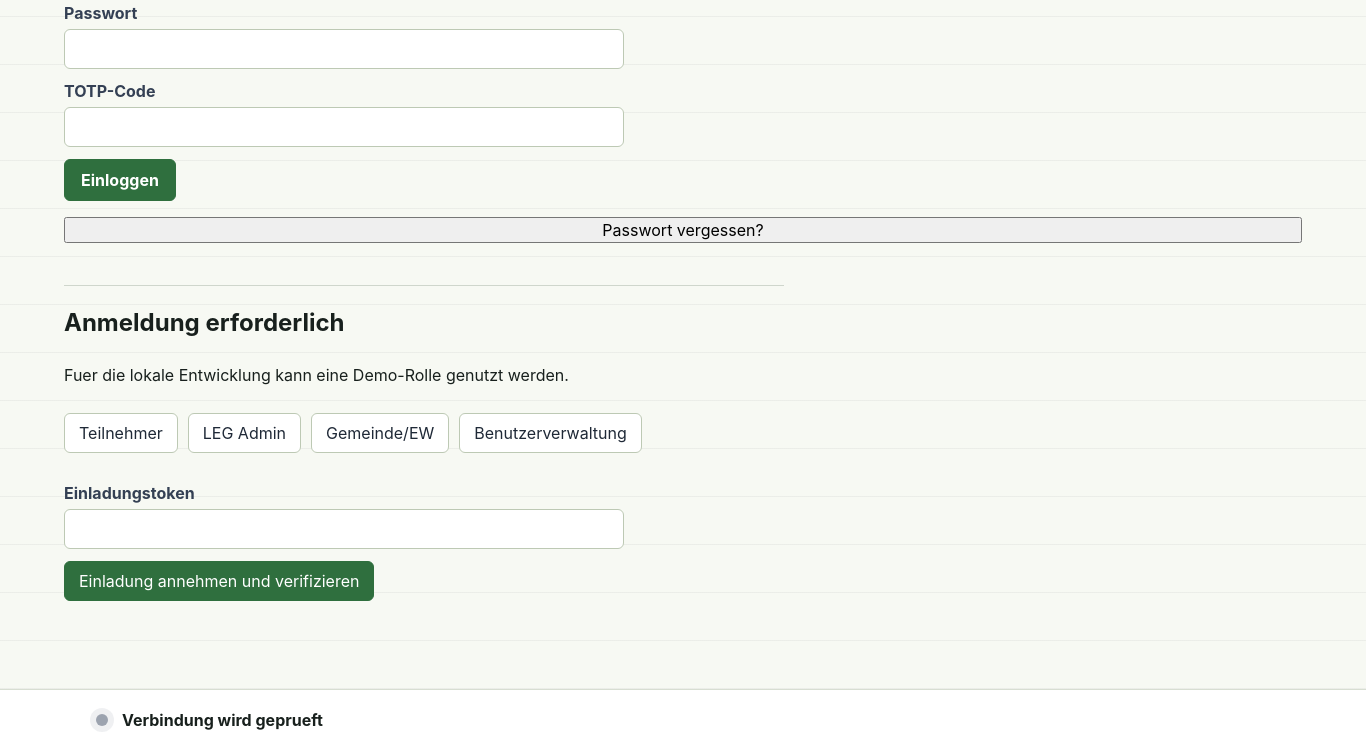
Test: Portal shell › aktualisiert als Platform Admin Anzeigename und Rolle eines Benutzerkontos
The image size is (1366, 742).
(page scrolled)
Click the button "Benutzerverwaltung" at (551, 433), box 459,413 -> 642,453
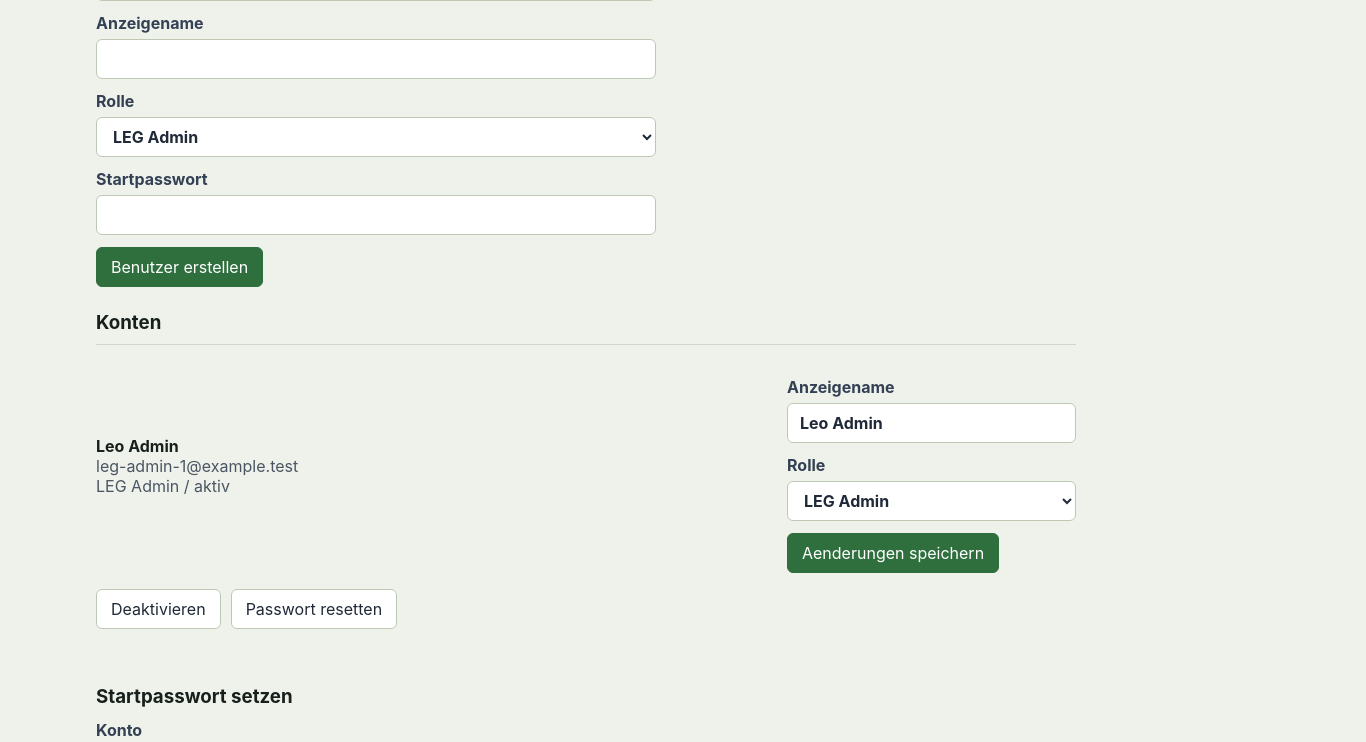
Replace the text in the field labelled "Anzeigename" in the row of "Leo Admin" with "Lea Admin" at (932, 423), box 787,403 -> 1076,443
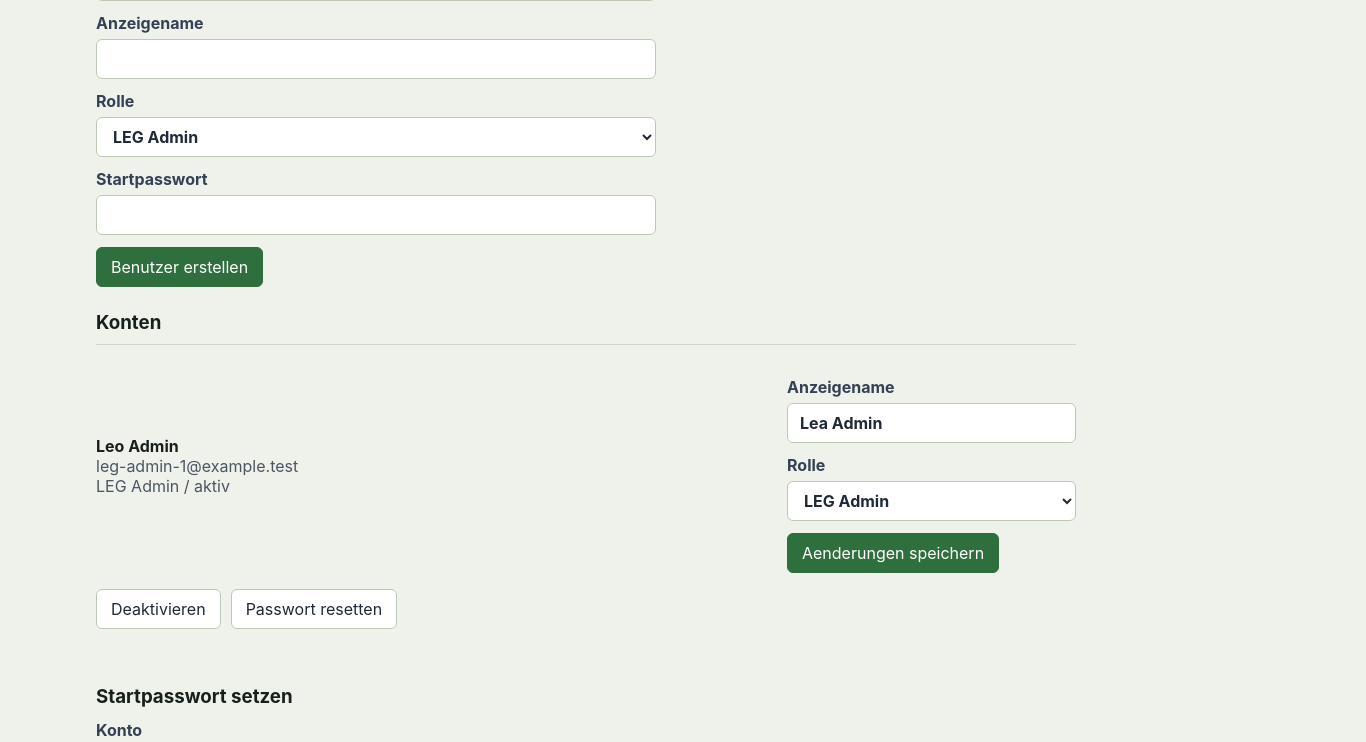
Select "Plattform Admin" in the dropdown labelled "Rolle" in the row of "LEG Admin" at (932, 501), box 787,481 -> 1076,521
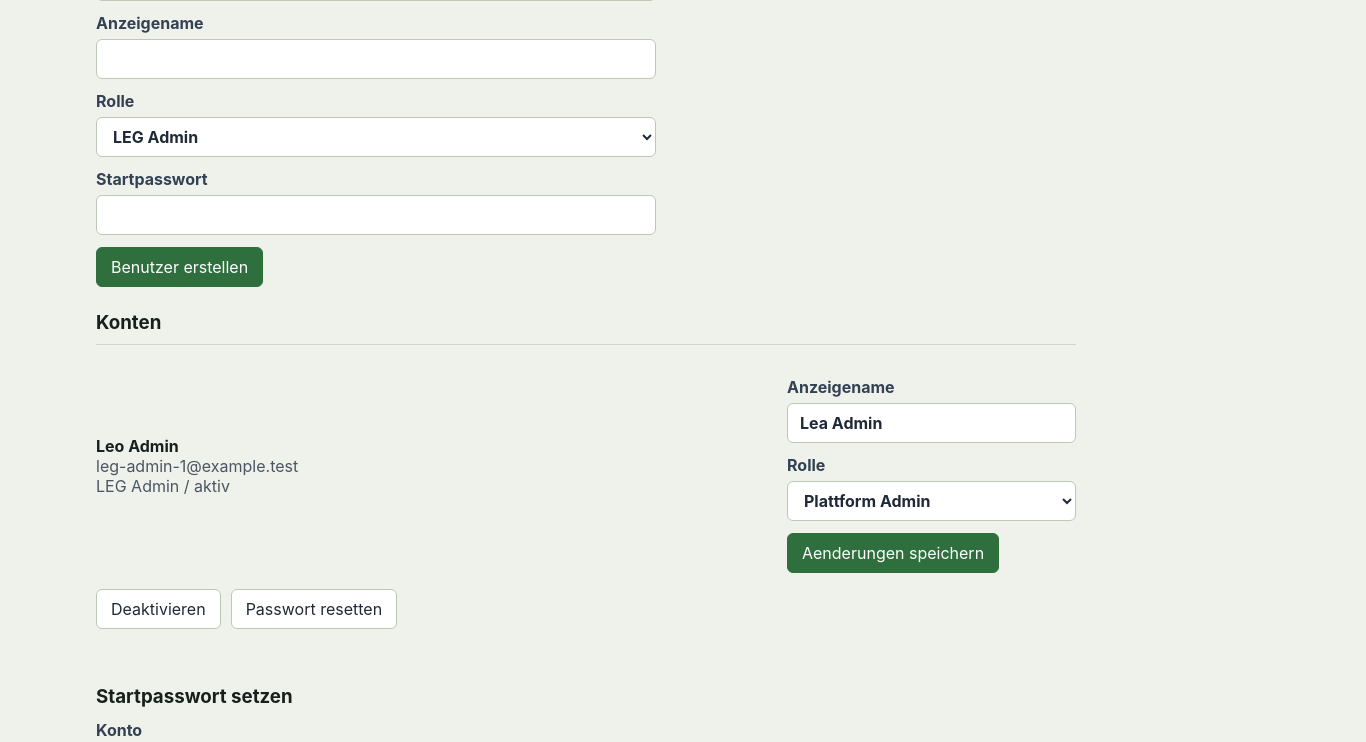
Click the button "Aenderungen speichern" at (893, 553), box 787,533 -> 999,573
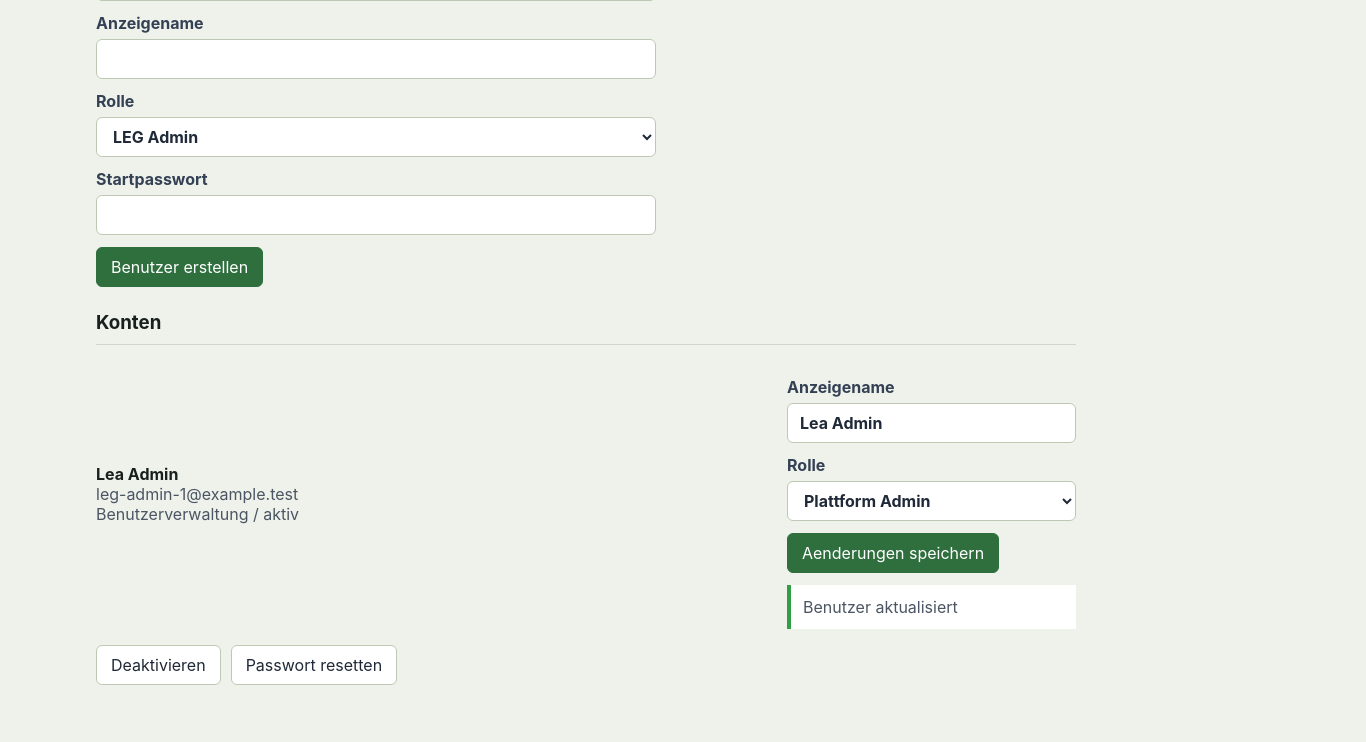
Check: the text "Benutzer aktualisiert" is shown, box 803,597 -> 958,617
Check: the text "Benutzerverwaltung / aktiv" is shown, box 96,504 -> 299,524
